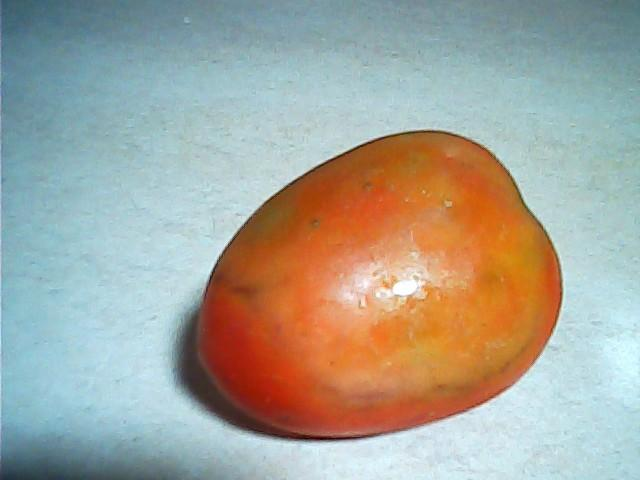defectuoso: (189, 127, 576, 441)
